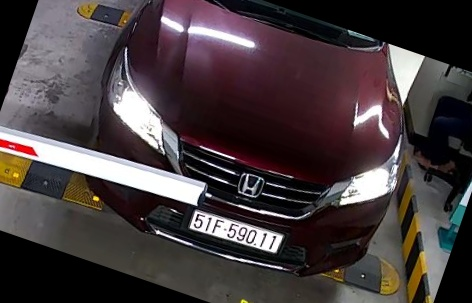plate: (179, 207, 289, 258)
